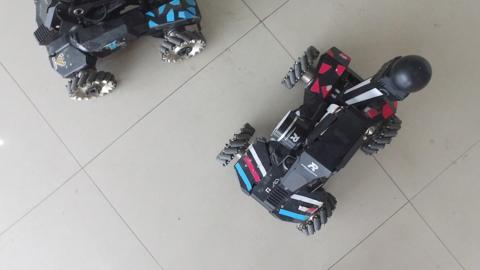chariot: (204, 39, 435, 245), (28, 1, 215, 104)
